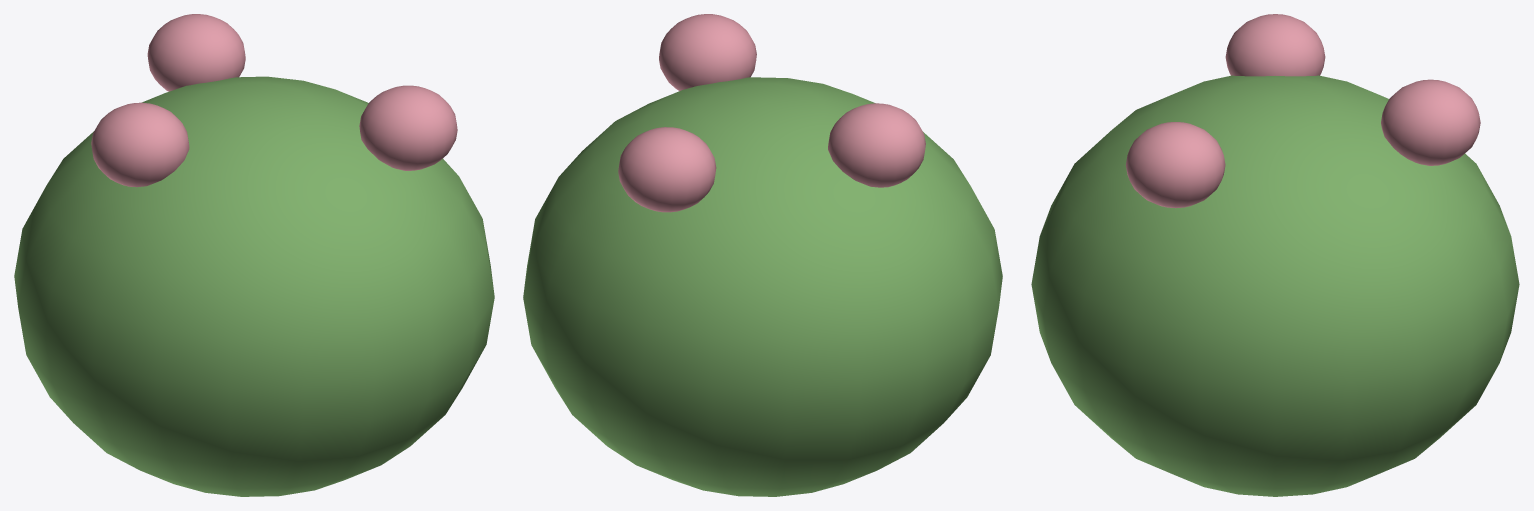
Rendered from shrub.flowering-old.glb.
The picture shows the model from 3 angles, left to right: view 1: azimuth 30°, elevation 25°; view 2: azimuth 150°, elevation 25°; view 3: azimuth 270°, elevation 25°; orthographic projection.
Visible parts, largest first — view 1: bush; view 2: bush; view 3: bush.
Part boxes in pixels (<box>): bush: <box>14,14,494,496</box>; bush: <box>523,14,1002,496</box>; bush: <box>1031,14,1519,496</box>.
Size of the model in its own units: 0.88 by 0.785 by 0.88.
